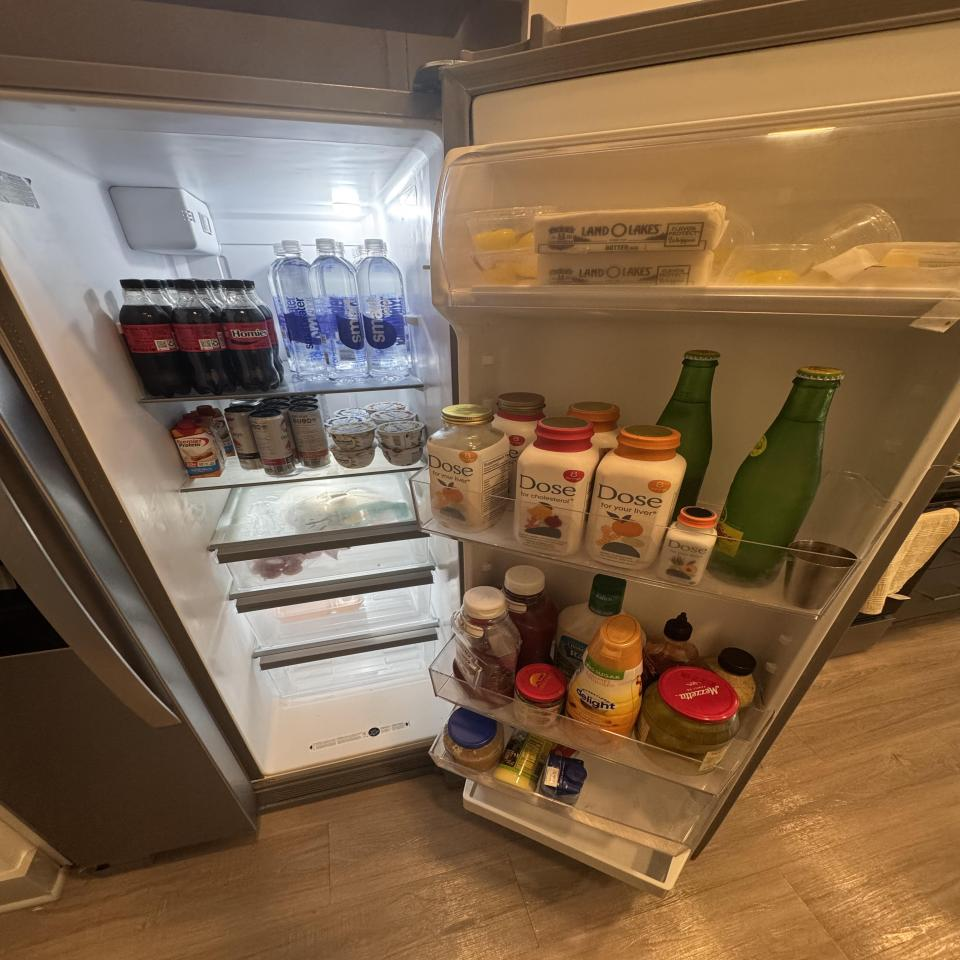Mantequilla: (534, 202, 726, 252), (537, 250, 715, 288)
ketchup: (450, 586, 522, 710)
